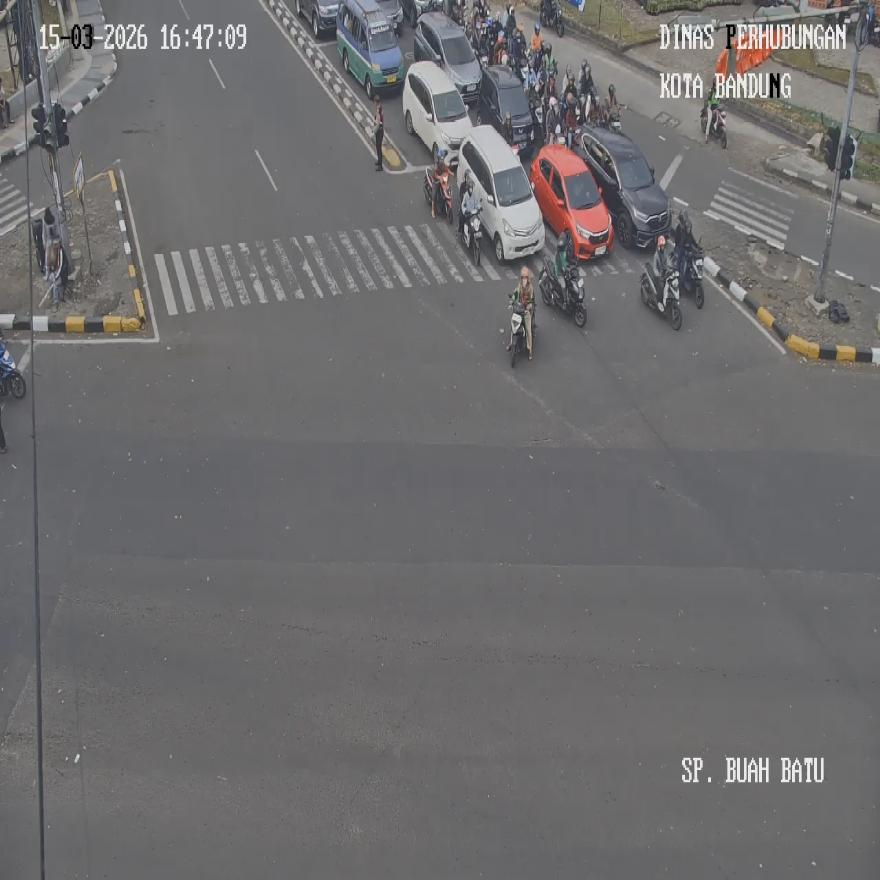Motor: (455, 122, 545, 262), (578, 127, 670, 248), (530, 141, 614, 259), (403, 60, 472, 170), (336, 0, 404, 99), (413, 12, 481, 105)
Truk: (539, 256, 586, 328), (639, 264, 682, 329), (676, 238, 704, 308), (509, 297, 533, 365), (424, 163, 452, 221), (0, 341, 25, 398), (700, 100, 727, 149), (459, 206, 481, 266), (539, 0, 563, 35)
